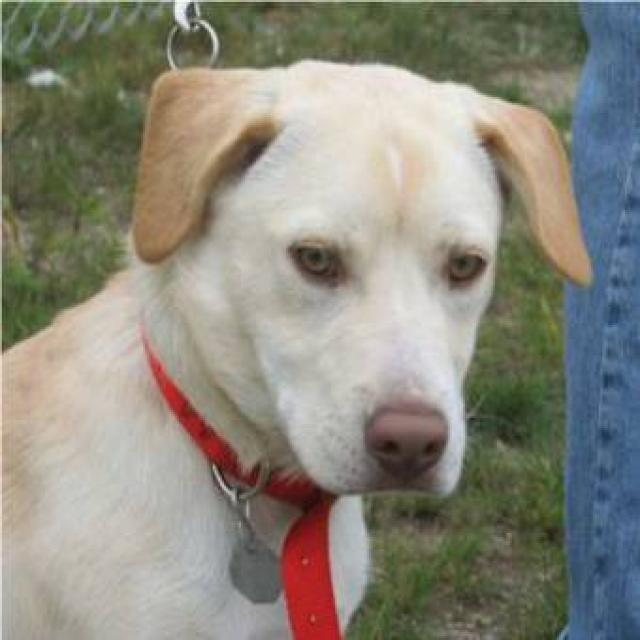dog: (0, 57, 595, 638)
